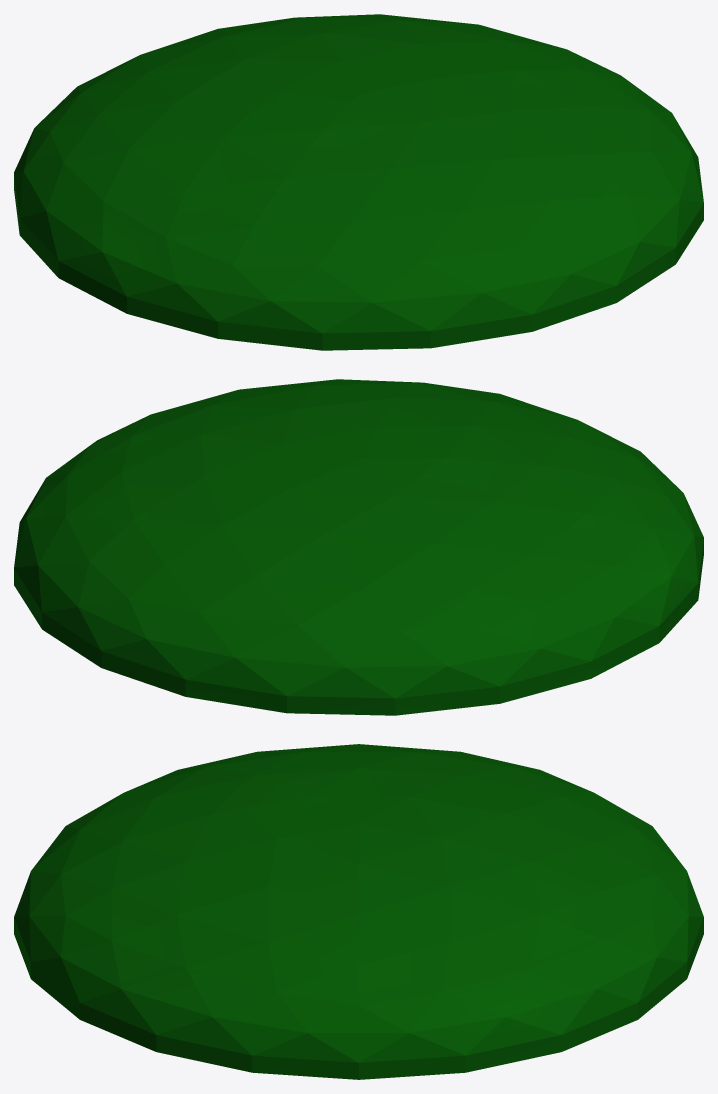
The model's file is ground.glb.
3 views of the same model, one above another, from view 1: azimuth 30°, elevation 25°; view 2: azimuth 150°, elevation 25°; view 3: azimuth 270°, elevation 25° (orthographic).
Visible parts, largest first — view 1: Ground; view 2: Ground; view 3: Ground.
Part boxes in pixels (x1,y1,x2,y2): Ground: (14, 14, 703, 350); Ground: (14, 379, 703, 715); Ground: (14, 744, 703, 1079).
Bounding box in the file's own units: 4 × 0.7047 × 4.
